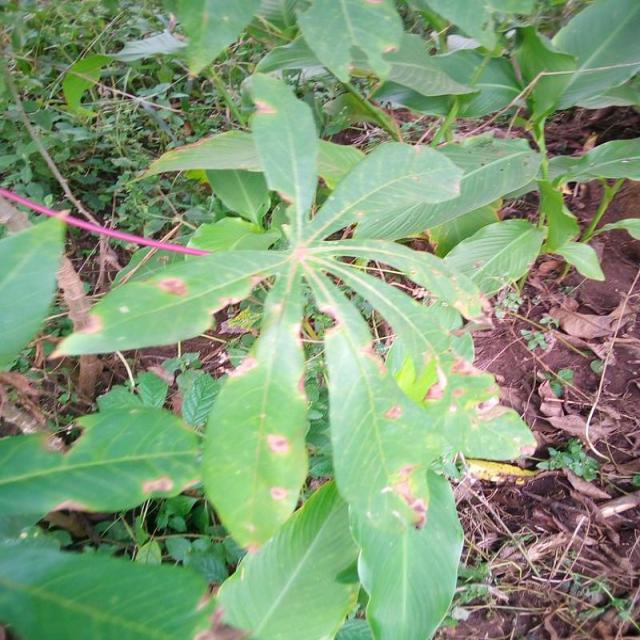cassava leaf: (47, 68, 546, 638)
